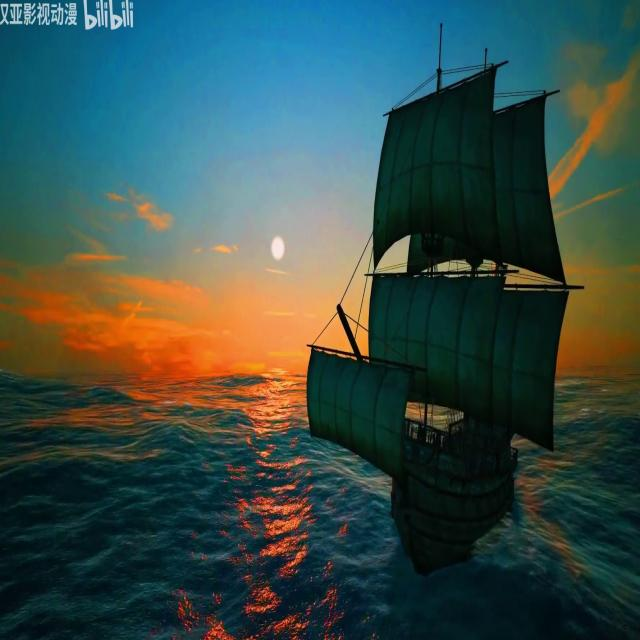sailboat: (306, 16, 562, 561)
